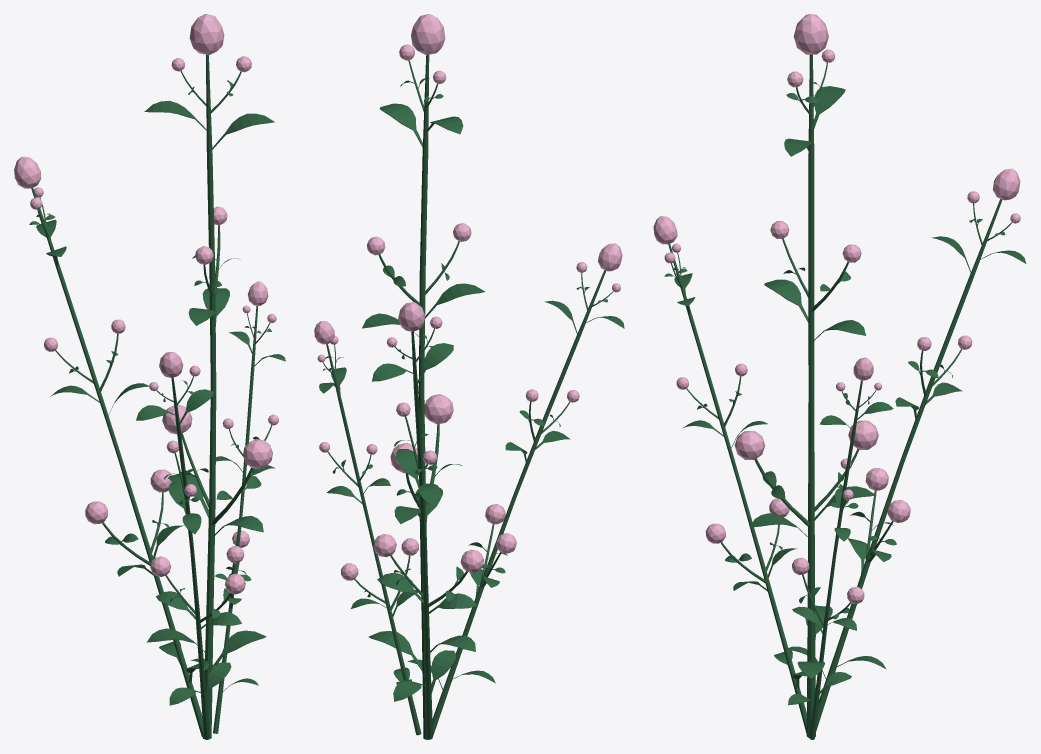
File: mod_vg_aquaticmintM.fbx
3 views of the same model, side by side, from view 1: azimuth 30°, elevation 25°; view 2: azimuth 150°, elevation 25°; view 3: azimuth 270°, elevation 25° (orthographic).
Visible parts, largest first — view 1: tige1.004; view 2: tige1.004; view 3: tige1.004.
Part boxes in pixels (x1,y1,x2,y2): tige1.004: (14, 14, 285, 739); tige1.004: (314, 14, 624, 739); tige1.004: (653, 14, 1026, 739).
Bounding box in the file's own units: 54.67 × 169 × 79.22.
